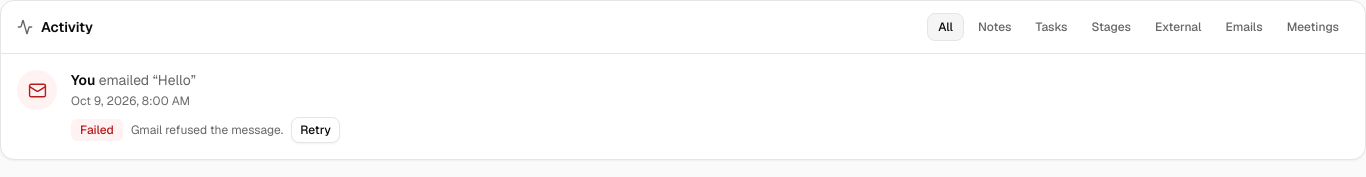
FR-CRMS-UI-2: a send shows on the timeline at once and follows its status › #134 shows a failure’s reason, and Retry asks the server to send it again
The width and height of the screenshot is (1366, 177).
Check: the text "Failed" is shown, box [71,119,123,141]
Check: the text "Gmail refused the message." is shown, box [131,122,283,138]
Step 1. Click the button "Retry" → (316, 130), box [291,117,340,143]
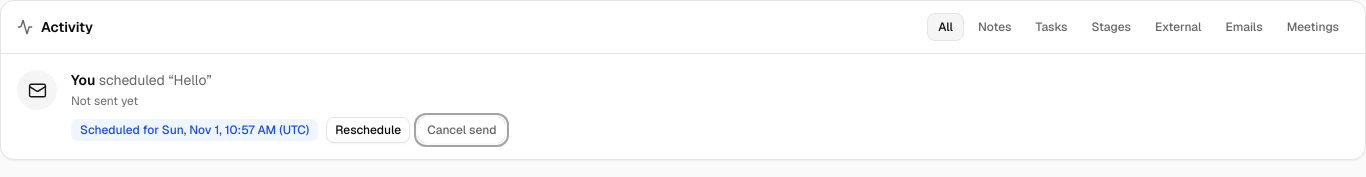
Check: the text "Failed" is gone
